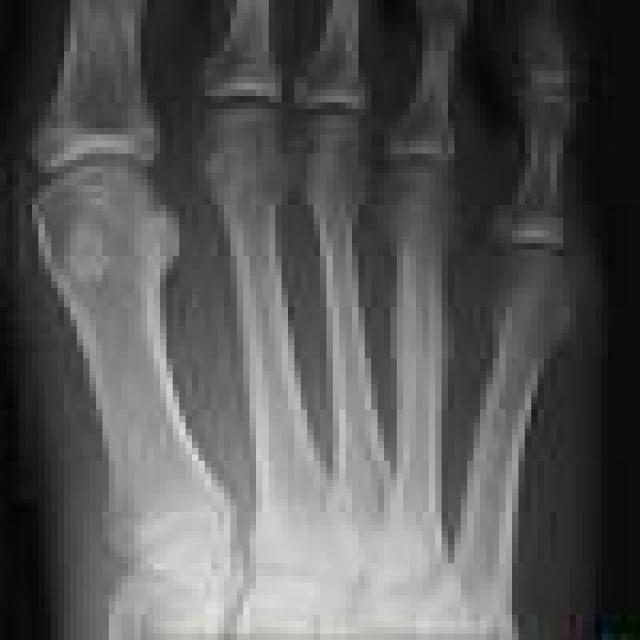Hairline: (99, 495, 266, 599)
